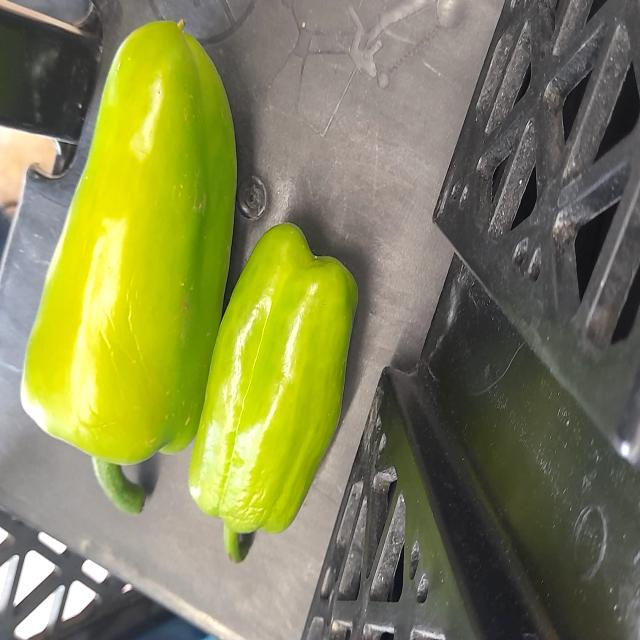bell pepper: (19, 14, 255, 517), (189, 226, 377, 562)
